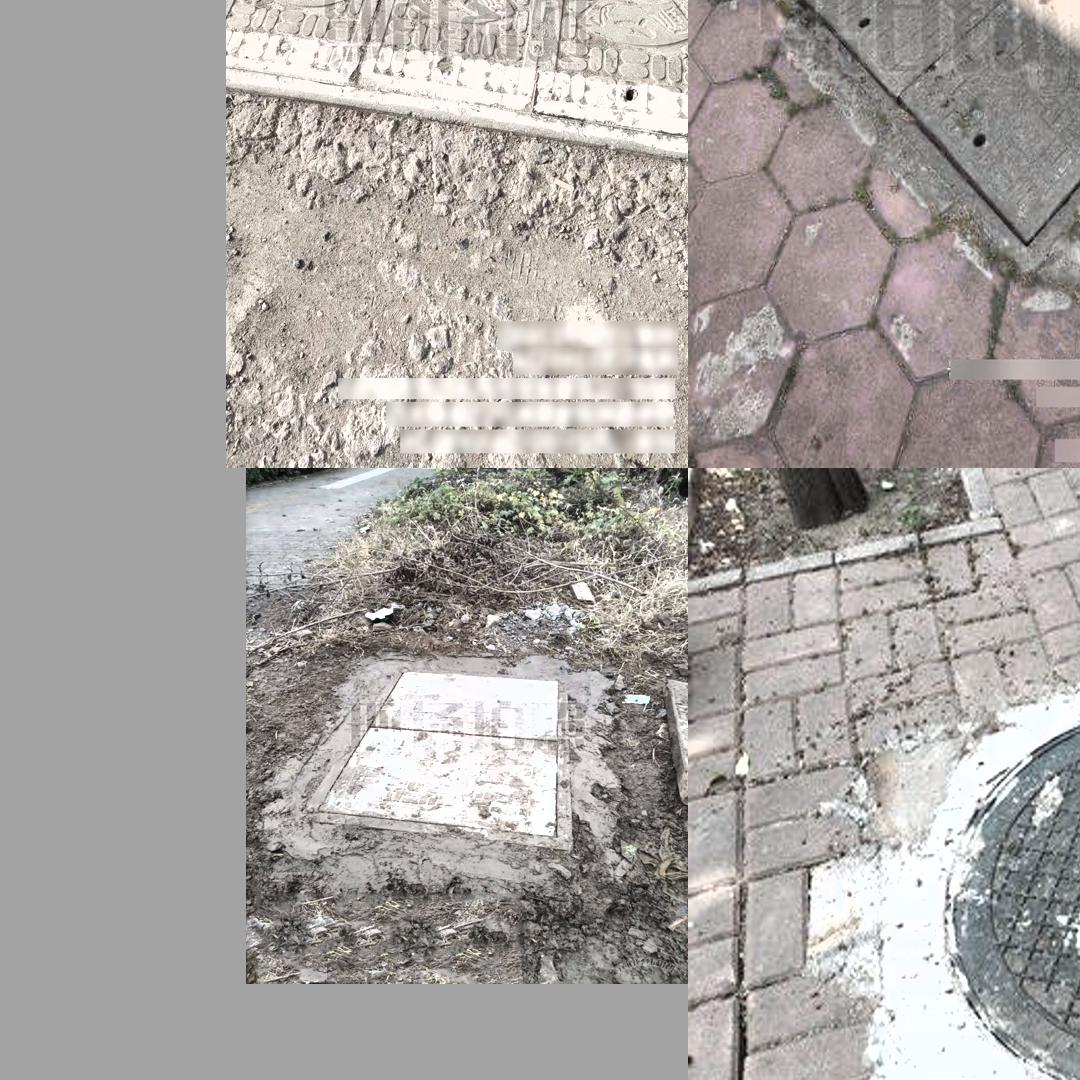good: (868, 654, 1080, 1080), (775, 0, 1080, 278), (226, 0, 687, 161), (303, 665, 573, 850)
